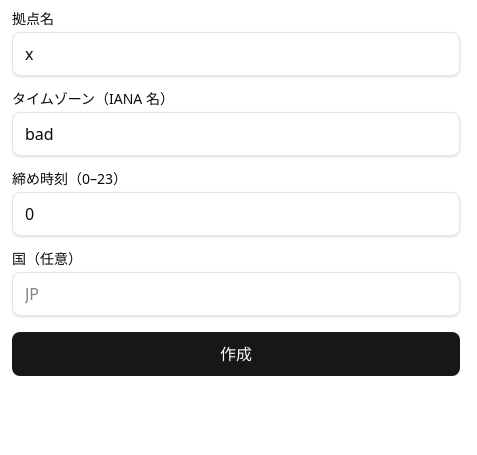
Test: LocationForm › アクションが BAD_USER_INPUT を返すと画面に表示する
The width and height of the screenshot is (477, 455).
Click the button "作成".
click(236, 354)  # box [12, 332, 460, 376]
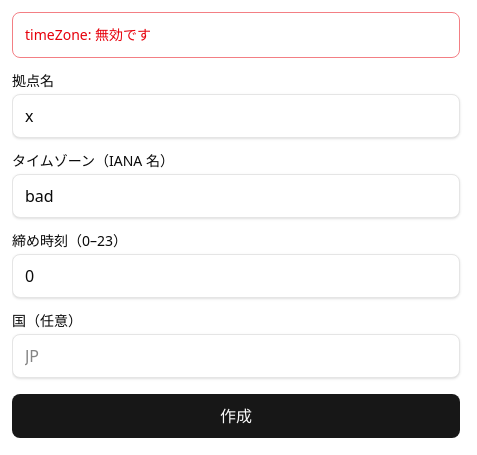
expect the message reads "timeZone: 無効です": met, box [25, 25, 151, 44]
